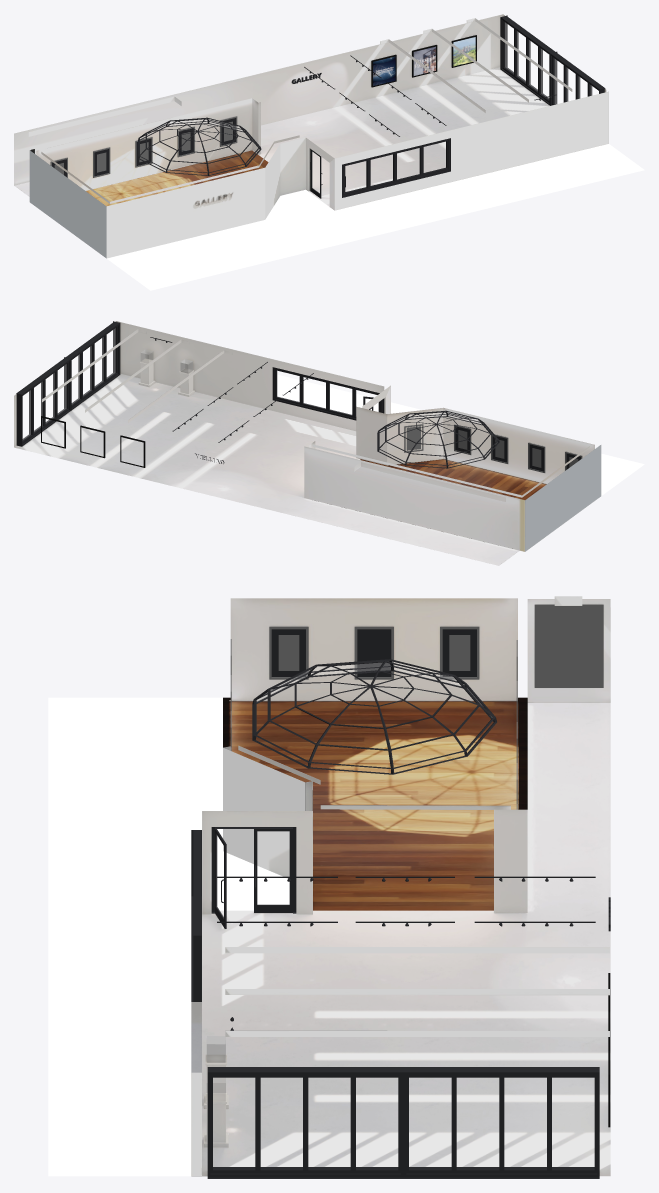
Rendered from art-gallery25.glb.
The picture shows the model from 3 angles, top to bottom: view 1: azimuth 30°, elevation 25°; view 2: azimuth 150°, elevation 25°; view 3: azimuth 270°, elevation 25°; orthographic projection. The views are drawn at different scales.
Parts seen in each view (by area): view 1: ParedesPrincipais, Paredes, Chao_entrada.001, Chao_entrada, Metais, Chao_madeira, Sphere.002, Todos os quadros, Quadros_entrada, p_DNA Project, p_Real Estate Project, p_Windland Project; view 2: Chao_entrada, ParedesPrincipais, Paredes, Metais, Chao_entrada.001, Chao_madeira, Todos os quadros, Sphere.002, Quadros_entrada; view 3: Chao_entrada, Chao_entrada.001, Chao_madeira, Paredes, Metais, ParedesPrincipais, Todos os quadros, Sphere.002, p_Threejs Favorites.
Part boxes in pixels (box(x1,y1,x2,y2)): ParedesPrincipais: box(14, 14, 608, 210); Paredes: box(29, 98, 334, 258); Chao_entrada.001: box(107, 144, 644, 290); Chao_entrada: box(14, 67, 549, 206); Metais: box(304, 15, 605, 198); Chao_madeira: box(86, 150, 268, 206); Sphere.002: box(138, 117, 261, 175); Todos os quadros: box(50, 116, 237, 177); Quadros_entrada: box(371, 35, 476, 87); p_DNA Project: box(373, 56, 395, 85); p_Real Estate Project: box(413, 46, 435, 75); p_Windland Project: box(453, 37, 475, 66); Chao_entrada: box(14, 374, 519, 565); ParedesPrincipais: box(14, 321, 524, 551); Paredes: box(309, 385, 601, 551); Metais: box(16, 321, 384, 446); Chao_entrada.001: box(277, 374, 644, 495); Chao_madeira: box(360, 459, 546, 499); Todos os quadros: box(404, 424, 582, 472); Sphere.002: box(377, 410, 499, 468); Quadros_entrada: box(41, 416, 145, 467); Chao_entrada: box(191, 702, 610, 1176); Chao_entrada.001: box(48, 697, 289, 1176); Chao_madeira: box(223, 697, 527, 910); Paredes: box(223, 598, 517, 878); Metais: box(191, 827, 599, 1178); ParedesPrincipais: box(191, 596, 610, 1175); Todos os quadros: box(230, 604, 603, 809); Sphere.002: box(252, 659, 496, 774); p_Threejs Favorites: box(357, 629, 391, 676).
Bounding box in the file's own units: 62.24 × 8.29 × 30.8.
16 materials, 8 textured.
